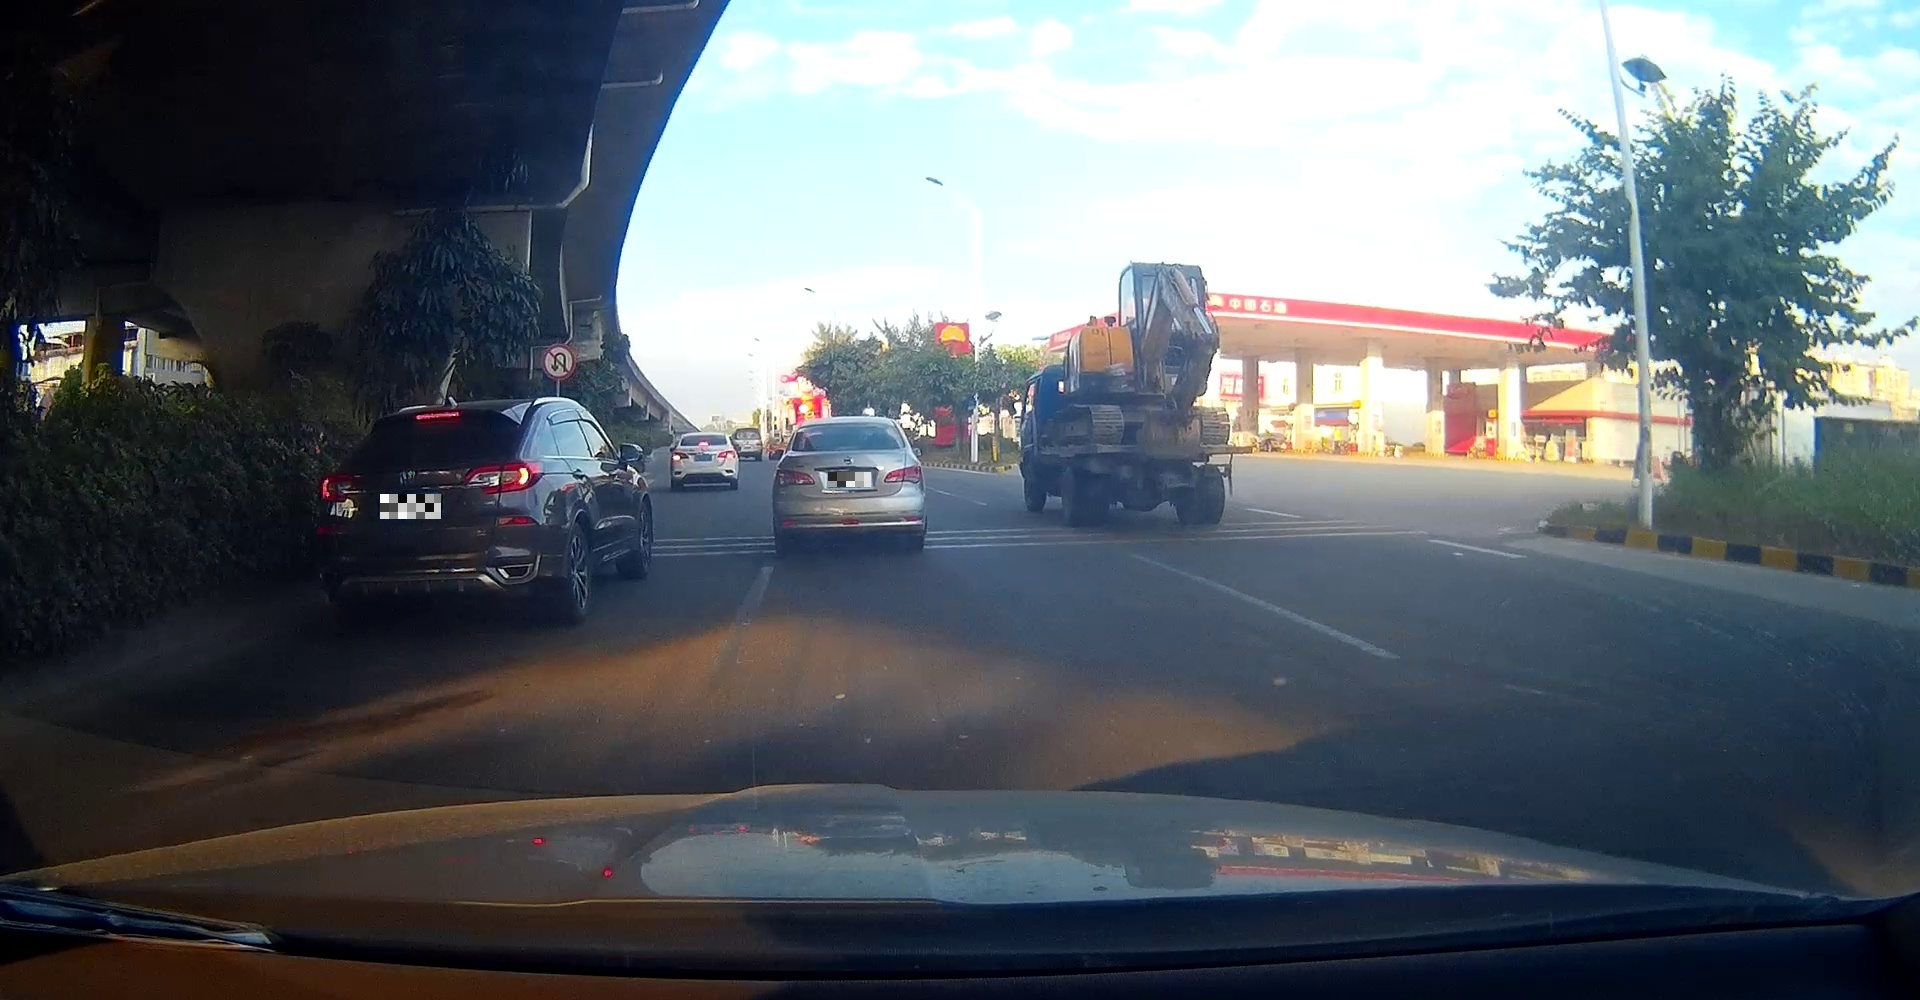L_light: (320, 475, 373, 503), (777, 470, 814, 487), (672, 452, 690, 461)
R_light: (461, 459, 543, 494), (884, 464, 921, 484), (717, 451, 734, 458)
T_light: (414, 410, 460, 420), (841, 425, 857, 428), (698, 442, 709, 445)
day-brake: (317, 401, 546, 631), (670, 433, 735, 491)
day-no: (772, 418, 926, 553)
plate_1: (380, 494, 441, 519)
plate_2: (828, 472, 871, 487)
